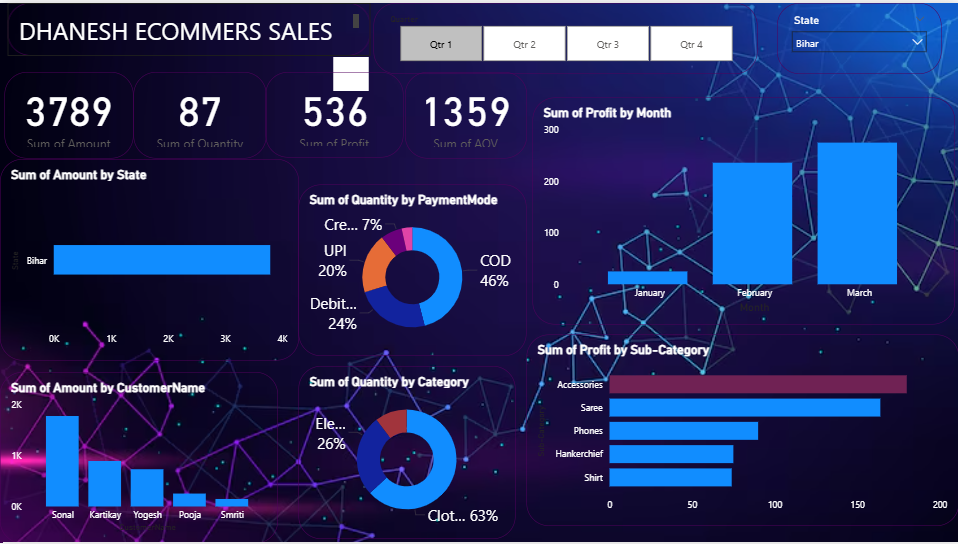

The dashboard page shown, as its layout file describes it:
{"tool":"powerbi","page":{"name":"Page 1","canvas":[1280,720],"ordinal":0},"visuals":[{"type":"textbox","box":[9.4,0,483.8,69.9],"z":0},{"type":"columnChart","fields":{"Category":["Orders.Order Date.Variation.Date Hierarchy.Month"],"Y":["Sum(Details.Profit)"]},"box":[710.6,126.6,563.2,302.4],"z":2},{"type":"barChart","fields":{"Category":["Details.Sub-Category"],"Y":["Sum(Details.Profit)"]},"box":[703,442.2,576.4,255.1],"z":3},{"type":"donutChart","fields":{"Y":["Sum(Details.Quantity)"],"Category":["Details.PaymentMode"]},"box":[398.7,241.9,304.3,228.7],"z":4},{"type":"donutChart","fields":{"Category":["Details.Category"],"Y":["Sum(Details.Quantity)"]},"box":[398.7,483.8,289.1,230.6],"z":5},{"type":"card","fields":{"Values":["Sum(Details.Profit)"]},"box":[354.4,93,184.2,114],"z":6},{"type":"card","fields":{"Values":["Sum(Details.Quantity)"]},"box":[177.6,92.6,177.6,115.3],"z":7},{"type":"card","fields":{"Values":["Sum(Details.Amount)"]},"box":[5.7,92.6,172,115.3],"z":8},{"type":"card","fields":{"Values":["Sum(Details.AOV)"]},"box":[540.5,92.6,162.5,115.3],"z":9},{"type":"barChart","fields":{"Category":["Orders.State"],"Y":["Sum(Details.Amount)"]},"box":[0,207.9,398.7,268.3],"z":10},{"type":"columnChart","fields":{"Category":["Orders.CustomerName"],"Y":["Sum(Details.Amount)"]},"box":[0,491.3,370.4,228.7],"z":11},{"type":"slicer","fields":{"Values":["Orders.Order Date.Variation.Date Hierarchy.Quarter"]},"box":[498.9,0,512.1,94.5],"z":12},{"type":"slicer","fields":{"Values":["Orders.State"]},"box":[1035.6,0,219.2,94.5],"z":13}]}

Visuals, with their boxes in screenshot pixels (x1, y1, x2, y2), scaled from the page's 1280x720 canvas onto the 958x544 screenshot:
textbox: [x1=7, y1=0, x2=369, y2=53]
columnChart - Orders.Order Date.Variation.Date Hierarchy.Month x Sum(Details.Profit): [x1=532, y1=96, x2=953, y2=324]
barChart - Details.Sub-Category x Sum(Details.Profit): [x1=526, y1=334, x2=957, y2=527]
donutChart - Sum(Details.Quantity) x Details.PaymentMode: [x1=298, y1=183, x2=526, y2=356]
donutChart - Details.Category x Sum(Details.Quantity): [x1=298, y1=366, x2=515, y2=540]
card - Sum(Details.Profit): [x1=265, y1=70, x2=403, y2=156]
card - Sum(Details.Quantity): [x1=133, y1=70, x2=266, y2=157]
card - Sum(Details.Amount): [x1=4, y1=70, x2=133, y2=157]
card - Sum(Details.AOV): [x1=405, y1=70, x2=526, y2=157]
barChart - Orders.State x Sum(Details.Amount): [x1=0, y1=157, x2=298, y2=360]
columnChart - Orders.CustomerName x Sum(Details.Amount): [x1=0, y1=371, x2=277, y2=543]
slicer - Orders.Order Date.Variation.Date Hierarchy.Quarter: [x1=373, y1=0, x2=757, y2=71]
slicer - Orders.State: [x1=775, y1=0, x2=939, y2=71]
